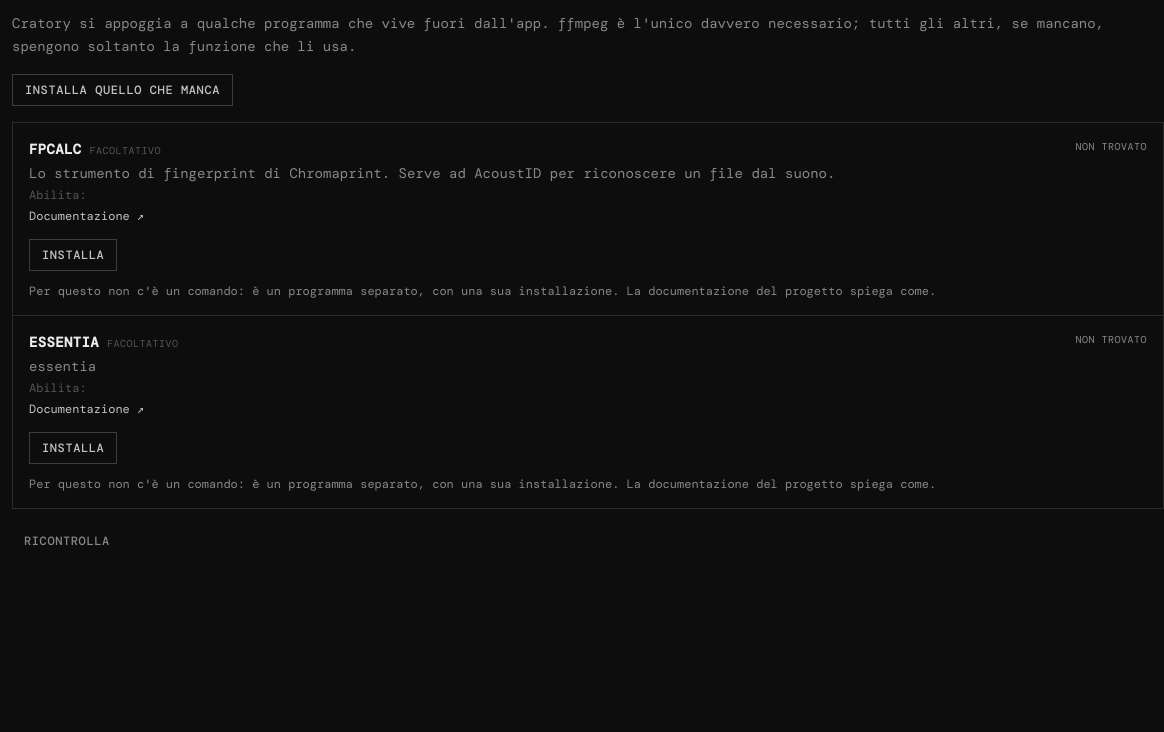
Test: PrerequisitesStep › un componente fallito non blocca l'installazione degli altri (fix 1)
The image size is (1164, 732).
What coordinates should you click on to do the following:
click the button "Installa quello che manca"
I would click on:
 (122, 90)
Its box is [12, 74, 233, 106].
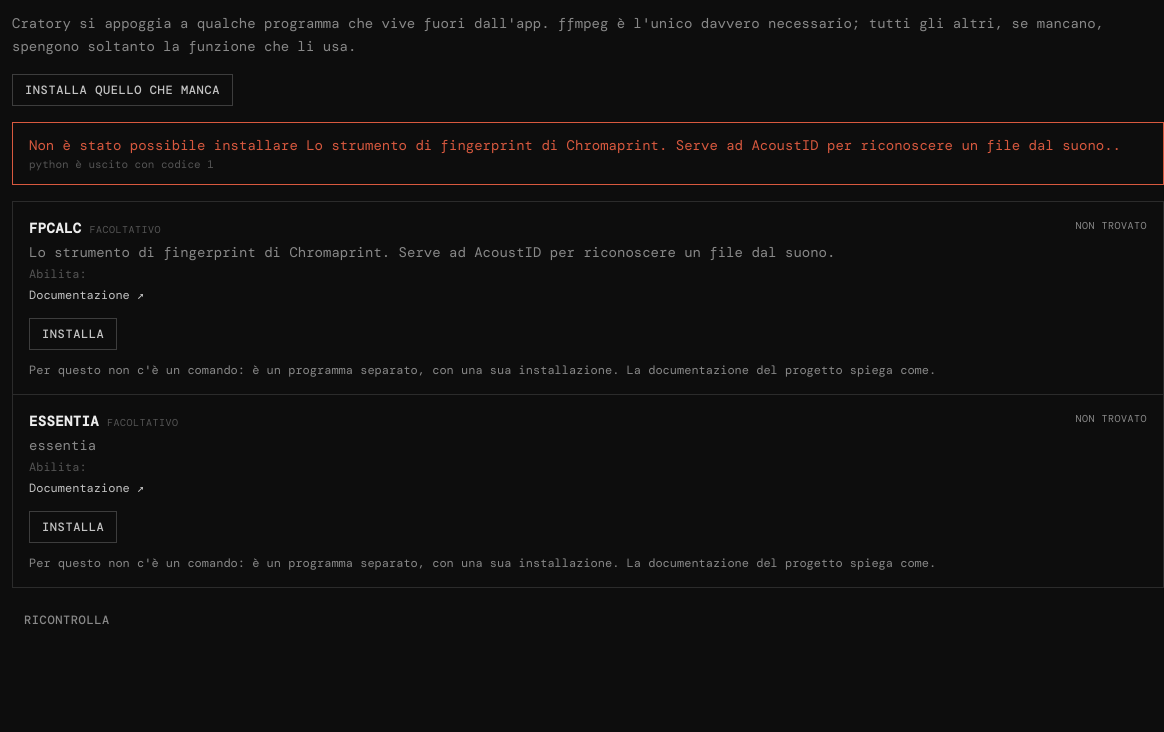
Now the text "python è uscito con codice 1" is shown, box [29, 156, 214, 170]
